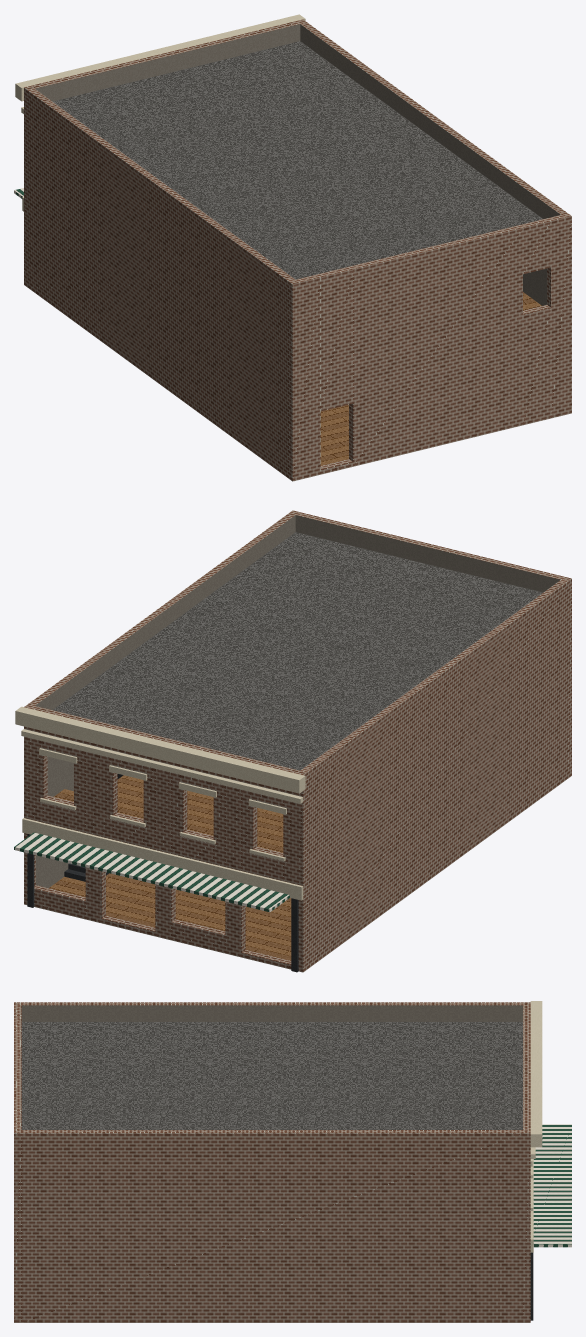
Rendered from main_street_brown_12m_2st.glb.
3 renders of one model, top to bottom at view 1: azimuth 30°, elevation 25°; view 2: azimuth 150°, elevation 25°; view 3: azimuth 270°, elevation 25°, orthographic. The views are drawn at different scales.
Visible parts, largest first — view 1: main_street_brown_12m_2st; view 2: main_street_brown_12m_2st; view 3: main_street_brown_12m_2st.
Part boxes in pixels (x1,y1,x2,y2): main_street_brown_12m_2st: [14, 14, 571, 481]; main_street_brown_12m_2st: [14, 510, 571, 972]; main_street_brown_12m_2st: [14, 1001, 571, 1322].
Bounding box in the file's own units: 12.2 × 8.1 × 21.6.
7 materials, 7 textured.
